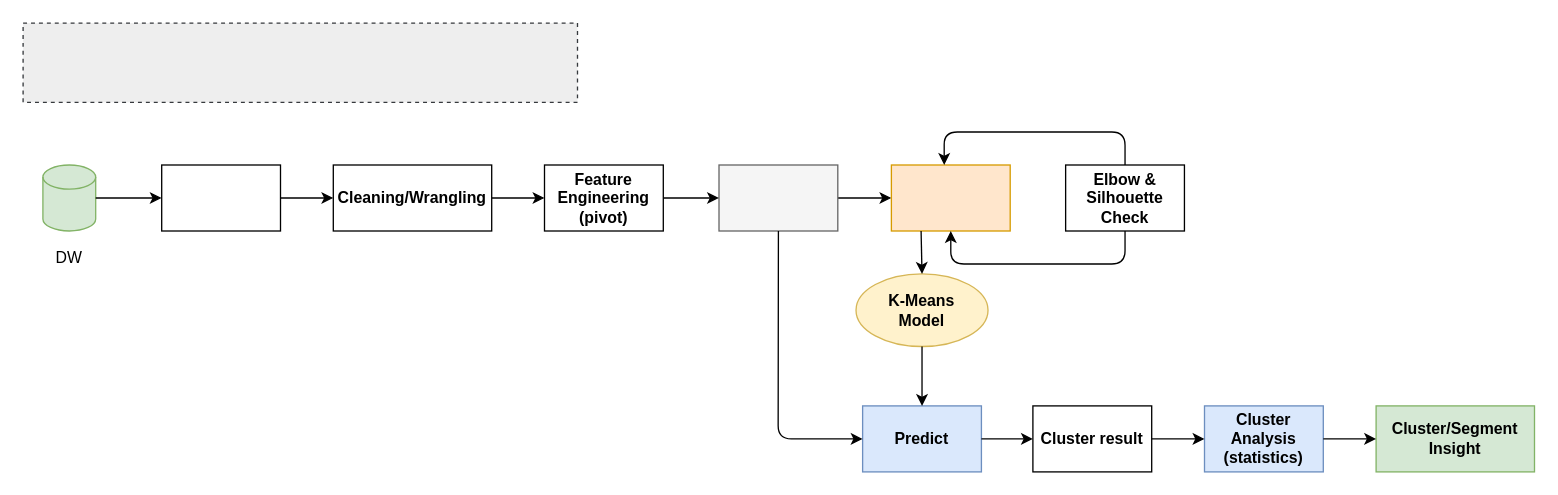
Image size: 1558x495. Some labels were removed from this diagram. The box of each missing label's shape, as (x1, y1, x2, y2) in pixels:
CUSTOMER SEGMENT BY PRODUCT: (22, 22, 578, 102)
Data Query: (160, 164, 280, 231)
K-Means Train: (890, 164, 1010, 231)
Normalization: (718, 164, 838, 231)
